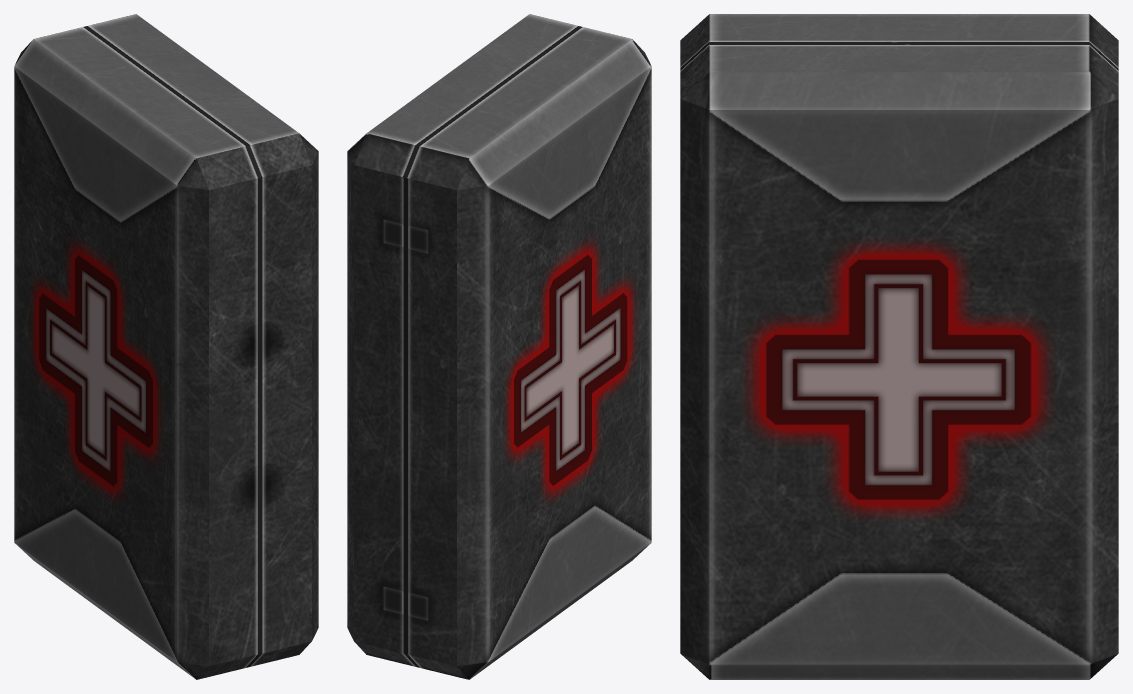
The model's file is item_stamina.fbx.
The picture shows the model from 3 angles, left to right: view 1: azimuth 30°, elevation 25°; view 2: azimuth 150°, elevation 25°; view 3: azimuth 270°, elevation 25°; orthographic projection. The views are drawn at different scales.
Parts seen in each view (by area): view 1: Medi; view 2: Medi; view 3: Medi.
Boxes of the visible parts, box(x1,y1,x2,y2) form: Medi: box(14, 14, 318, 679); Medi: box(347, 14, 651, 679); Medi: box(680, 14, 1118, 679).
Bounding box in the file's own units: 37.69 × 133 × 86.8.
